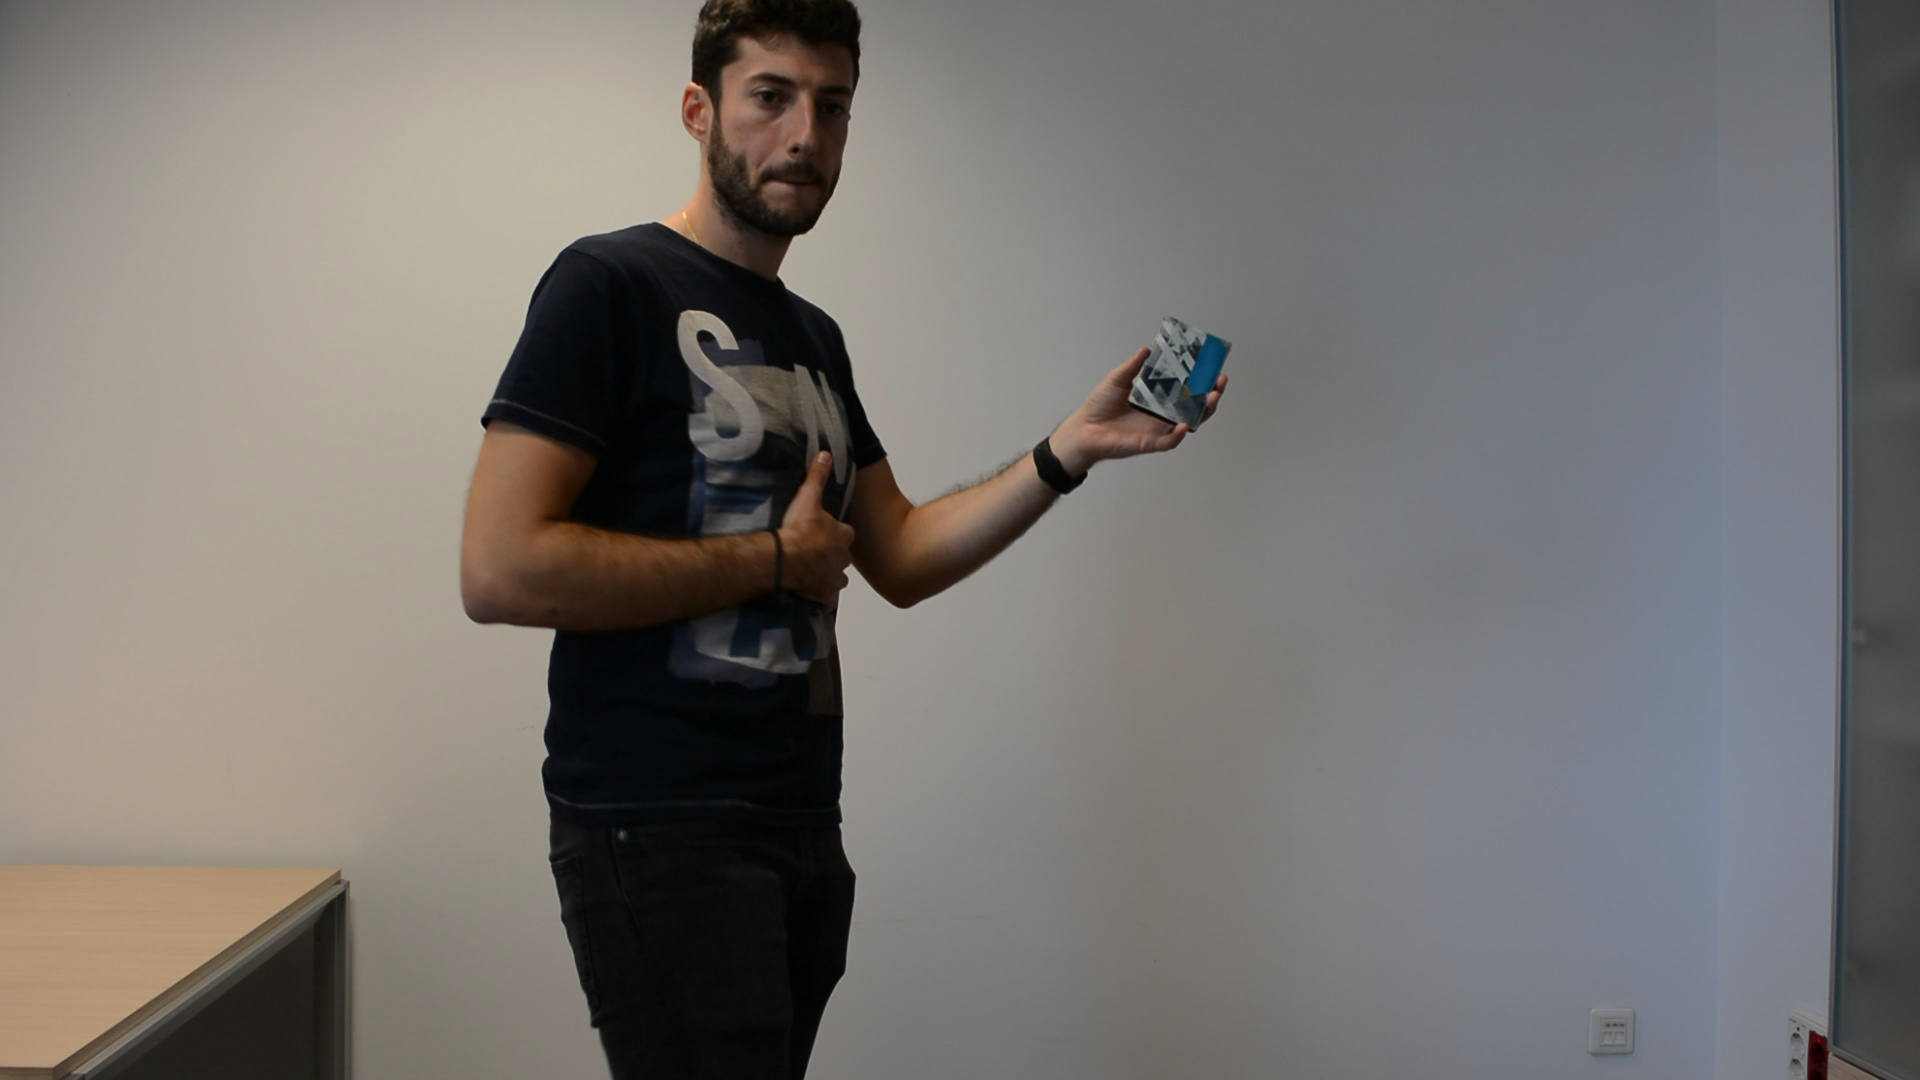monedero: (1125, 314, 1236, 434)
